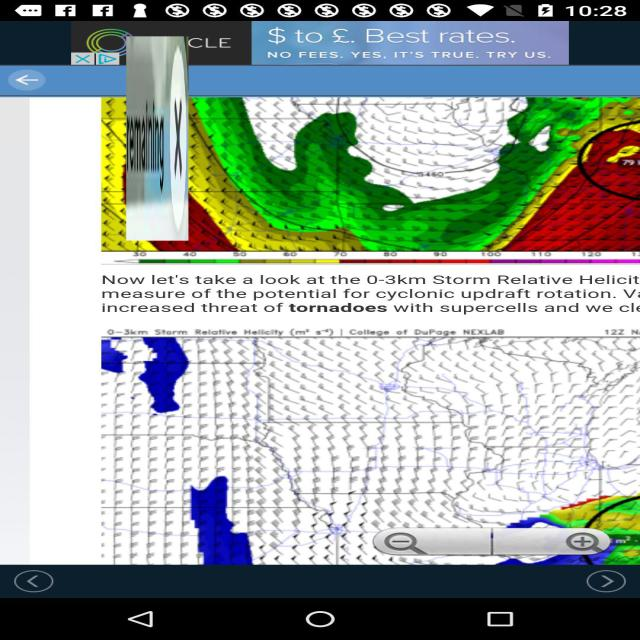misdirection: (126, 36, 188, 241)
